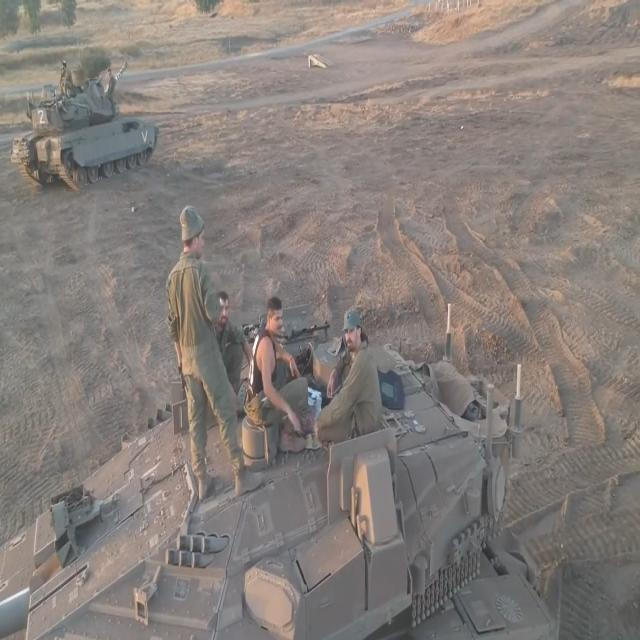tank: (0, 338, 571, 640), (7, 55, 166, 196)
